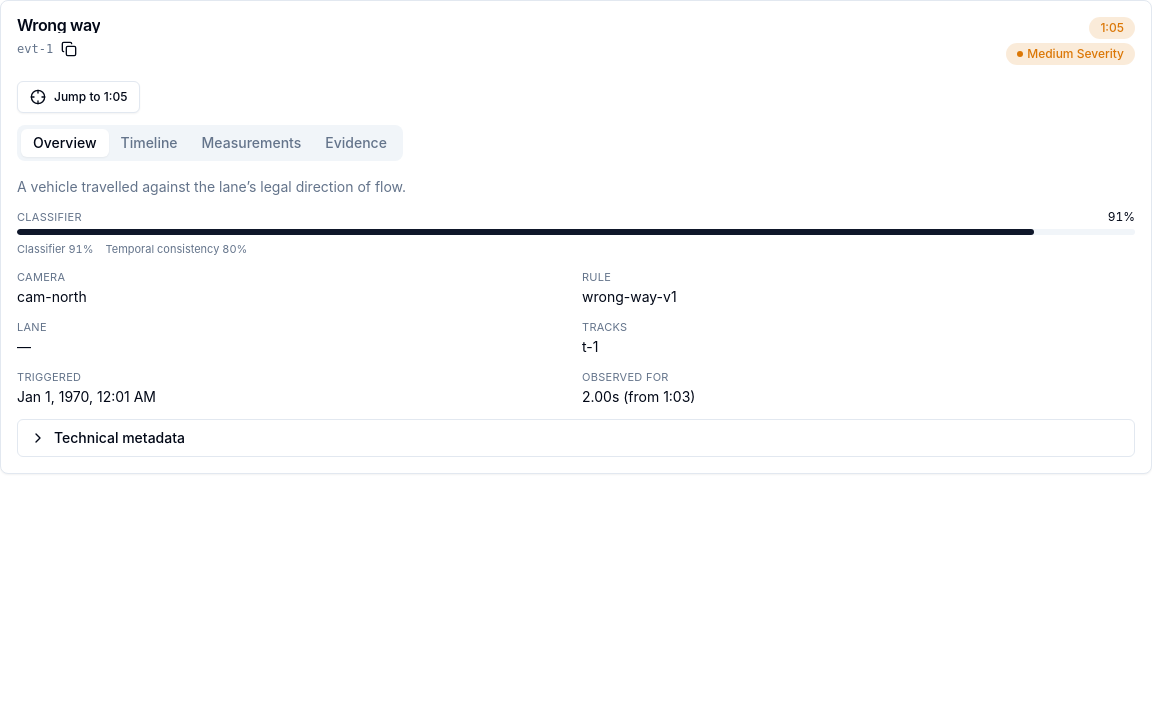
Test: EventDetail › shows the evidence manifest as typed references
Click the tab "Evidence" at {"x": 356, "y": 143}, box [313, 129, 399, 157]
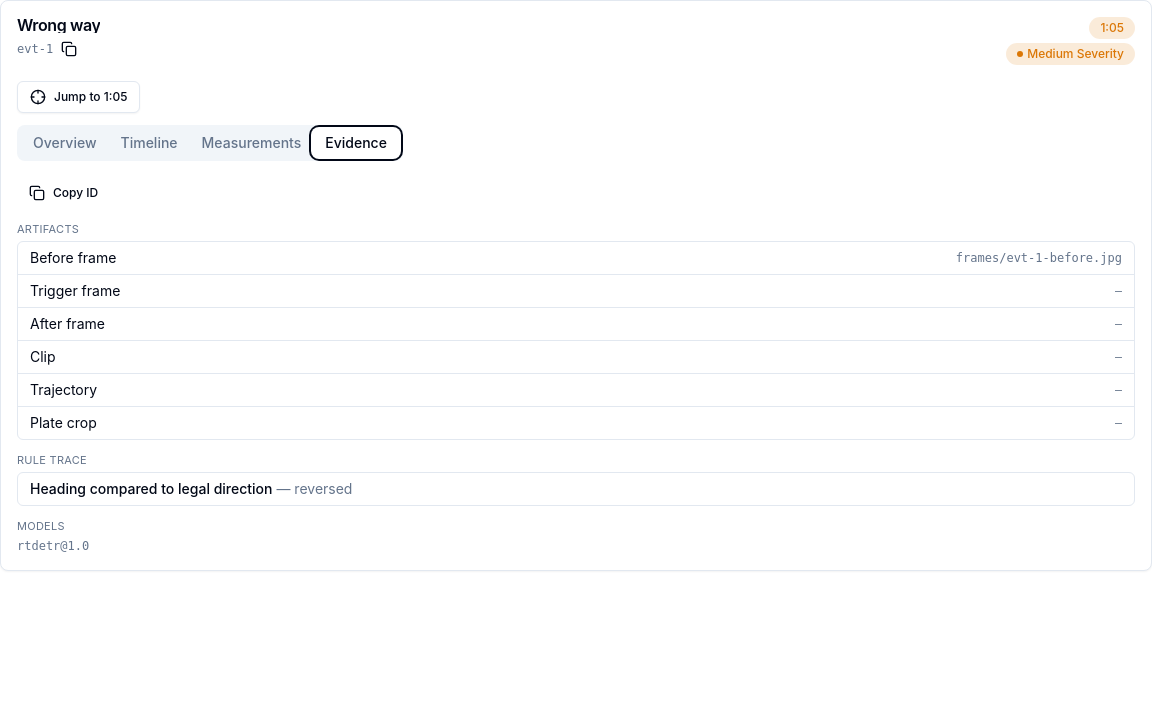
Expected: the text "frames/evt-1-before.jpg" is shown, [956, 250, 1122, 266]
Expected: the text "Heading compared to legal direction" is shown, [30, 480, 272, 497]
Expected: the list item "rtdetr@1.0" is shown, [17, 539, 89, 553]
